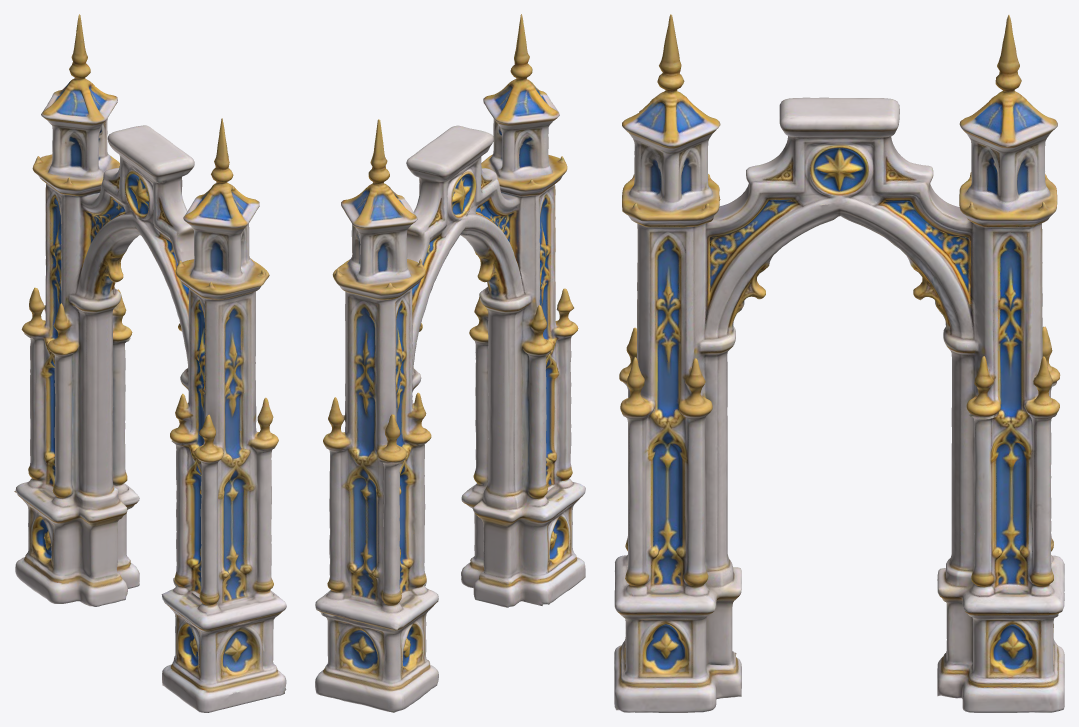
3 views of the same model, side by side, from view 1: azimuth 30°, elevation 25°; view 2: azimuth 150°, elevation 25°; view 3: azimuth 270°, elevation 25° (orthographic). The views are drawn at different scales.
Visible parts, largest first — view 1: tripo_node_ea046e3f-a96d-4154-b08f-826c5da0bdcb; view 2: tripo_node_ea046e3f-a96d-4154-b08f-826c5da0bdcb; view 3: tripo_node_ea046e3f-a96d-4154-b08f-826c5da0bdcb.
Part boxes in pixels (<box>): tripo_node_ea046e3f-a96d-4154-b08f-826c5da0bdcb: <box>14,14,286,712</box>; tripo_node_ea046e3f-a96d-4154-b08f-826c5da0bdcb: <box>315,14,585,712</box>; tripo_node_ea046e3f-a96d-4154-b08f-826c5da0bdcb: <box>614,14,1064,712</box>.
Size of the model in its own units: 0.1562 by 0.9617 by 0.5827.
1 material, 1 textured.
